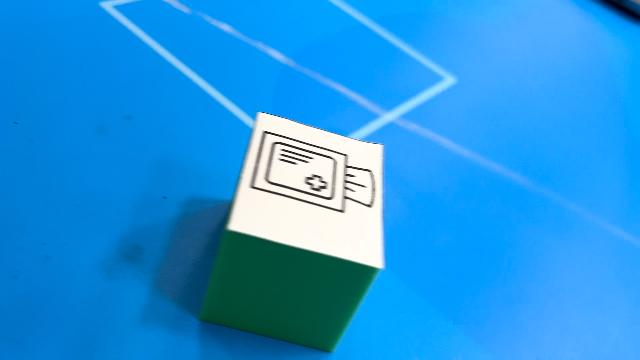napkin: (198, 110, 388, 352)
